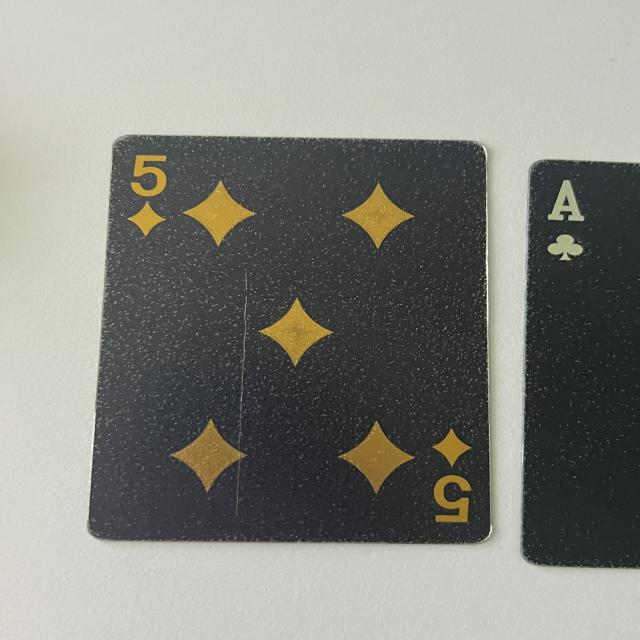5D: (423, 422, 484, 526), (115, 146, 176, 239)
AC: (537, 168, 604, 276)
